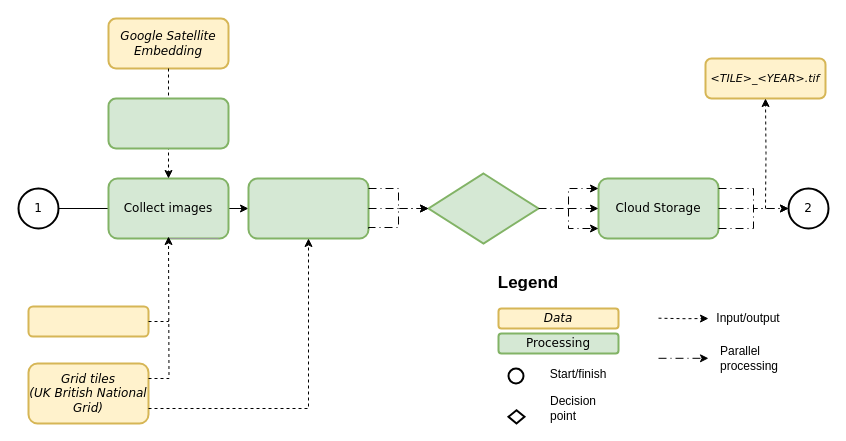
Some shapes in this 846 by 441 pixel diagram are drawn without their labels. The shapes that lost their labels are listed below. From the top down, each one's centre as x and y in pixels, then its label:
At point (168, 123): "Google Earth Engine API".
At point (308, 208): "Clip/Mosaic".
At point (483, 208): "Batch export".
At point (88, 321): "<YEAR> timeframe".
